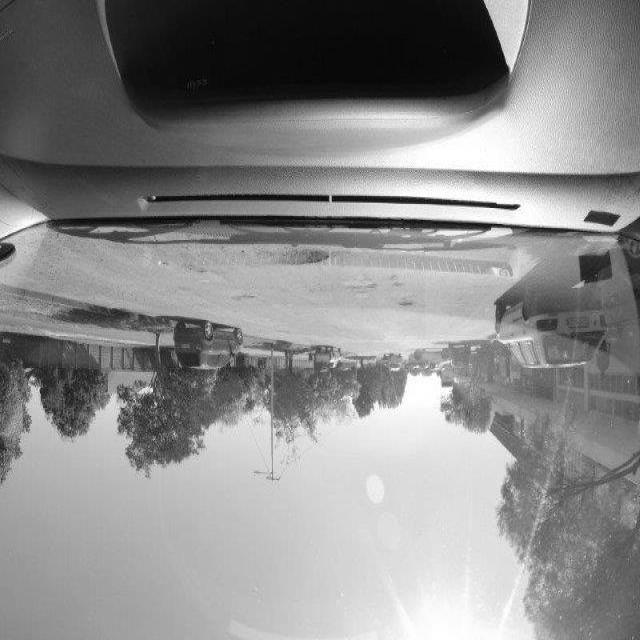lubang: (266, 247, 330, 270), (350, 278, 378, 298), (230, 292, 256, 304), (388, 276, 407, 292), (398, 302, 414, 310)
